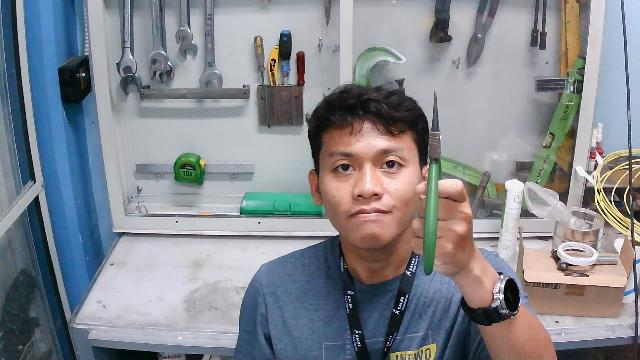tang_cucut_lancip_2: (416, 90, 459, 278)
